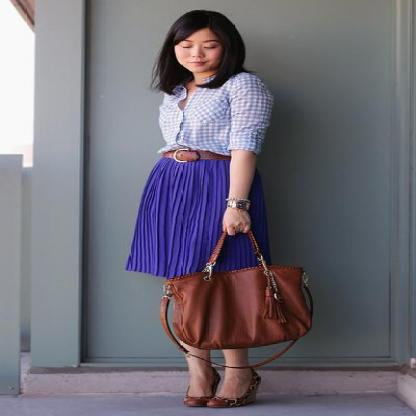bag: (144, 241, 312, 353)
shirt: (153, 72, 267, 154)
shoe: (183, 375, 264, 408)
skirt: (126, 157, 273, 279)
